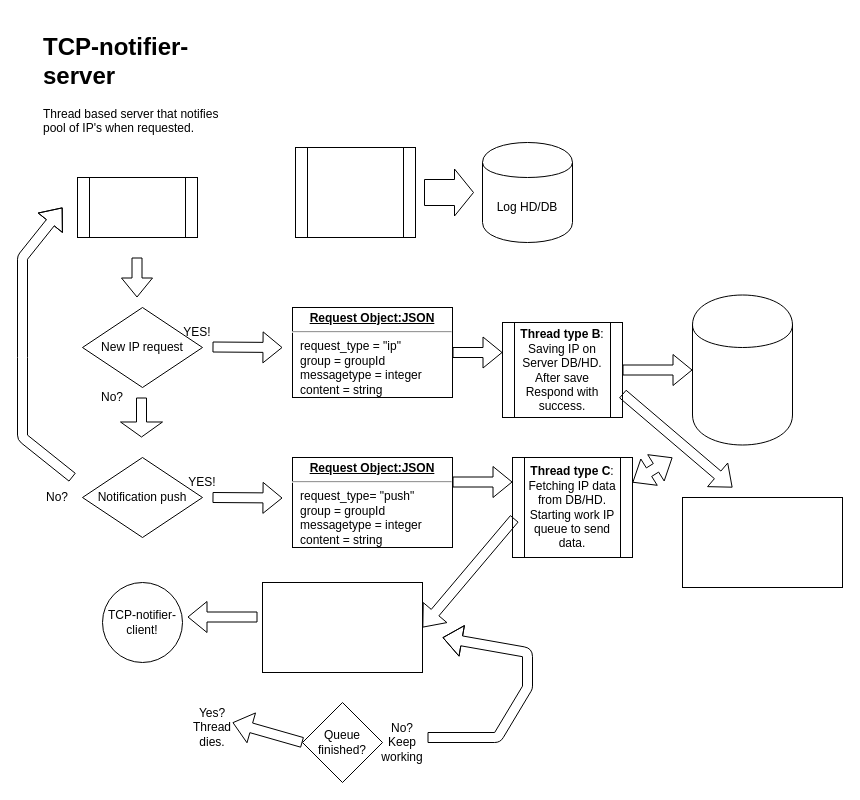
Image size: 860x800. Some labels were removed from this diagram. The centre of each missing label's shape, as x and y in pixels:
Mutex lock protected IP list: [742,369]
Response Object:JSON messagetype = integer content = string: [342,627]
Response Object:JSON status = "success" / "error" message = string: [762,542]
Thread type A: listening for TCP-connections: [137,207]
Thread type D: Logging events. Events are collected to log queue: [355,192]
